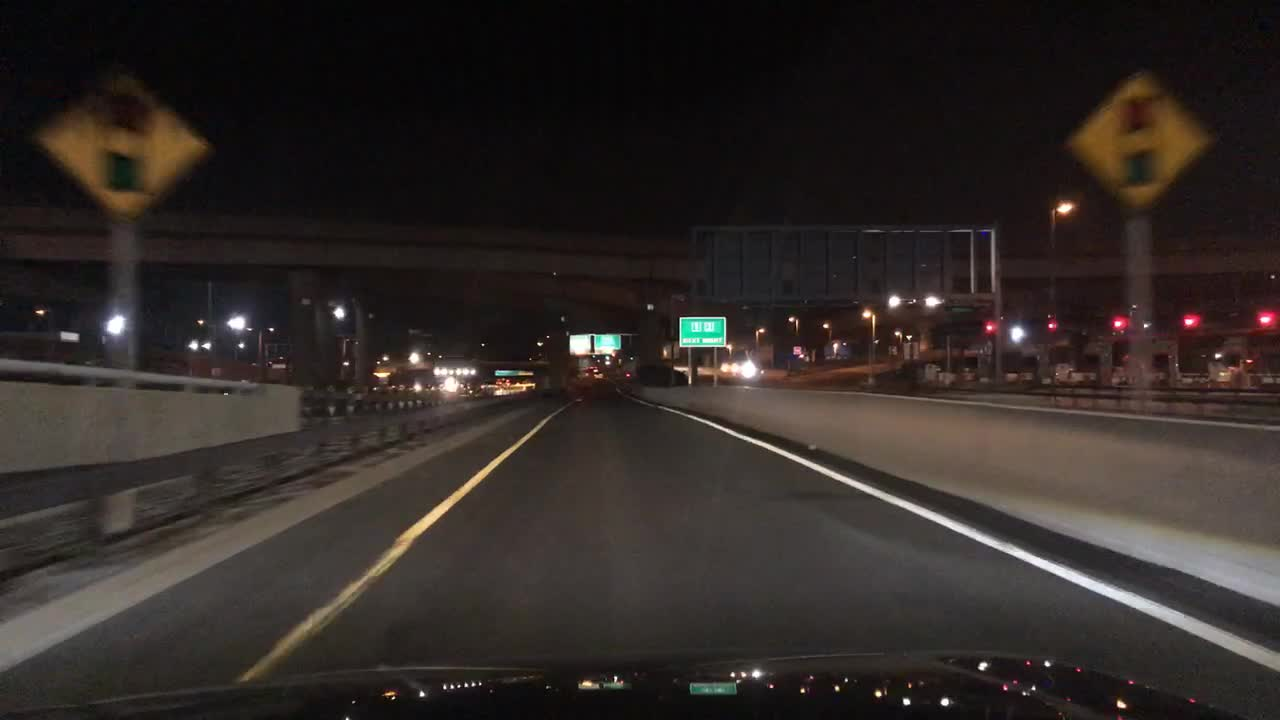car: (731, 362, 757, 377), (956, 365, 976, 383), (1073, 368, 1098, 382), (940, 371, 955, 386)
traffic light: (1256, 309, 1269, 324), (1113, 315, 1124, 332), (982, 318, 995, 332), (1181, 312, 1191, 329), (1047, 318, 1055, 332)
traffic sign: (26, 69, 210, 222), (1062, 64, 1209, 213), (706, 229, 949, 300), (677, 315, 727, 347), (594, 334, 622, 350), (567, 335, 591, 352)
truck: (1041, 362, 1071, 382), (914, 362, 940, 380)
